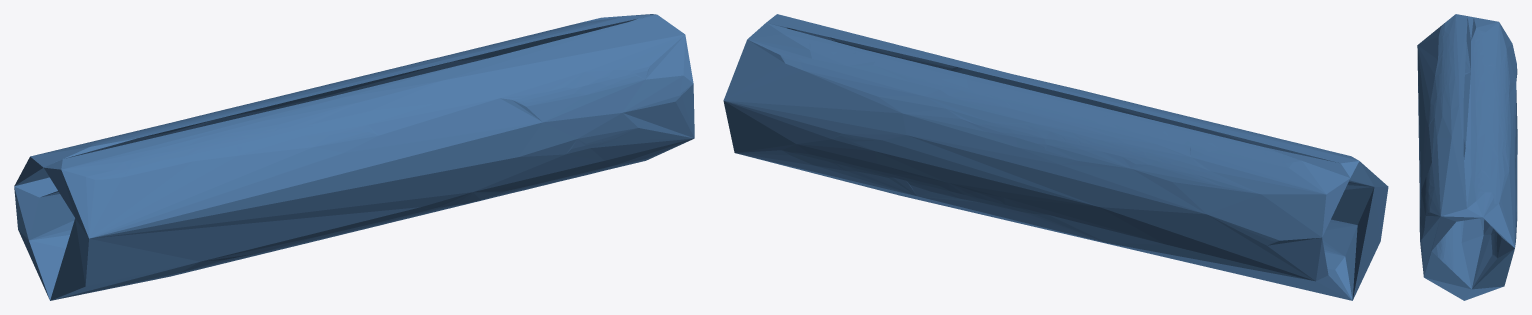
File: valve-0.glb
The picture shows the model from 3 angles, left to right: view 1: azimuth 30°, elevation 25°; view 2: azimuth 150°, elevation 25°; view 3: azimuth 270°, elevation 25°; orthographic projection. The views are drawn at different scales.
Visible parts, largest first — view 1: part_00; view 2: part_00; view 3: part_00.
Part boxes in pixels (left/top/right/bottom): part_00: left=14, top=14, right=694, bottom=300; part_00: left=723, top=14, right=1388, bottom=300; part_00: left=1417, top=14, right=1517, bottom=300.
Size of the model in its own units: 0.7065 by 0.152 by 0.1496.
